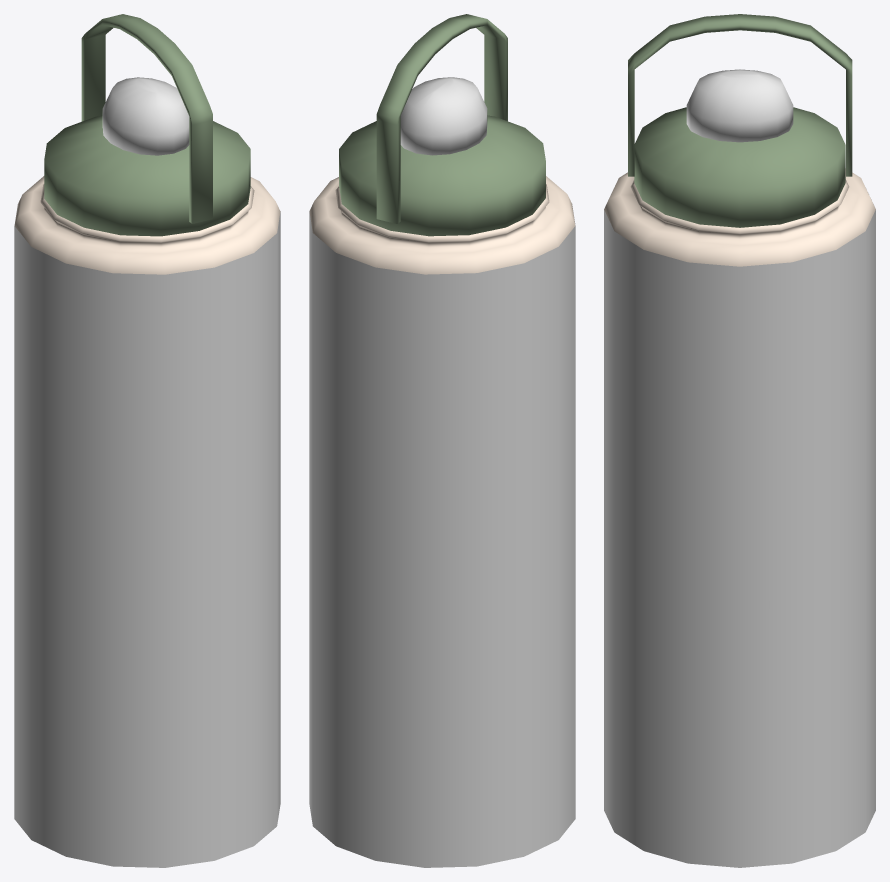
The model's file is Waterbottle.fbx.
3 views of the same model, side by side, from view 1: azimuth 30°, elevation 25°; view 2: azimuth 150°, elevation 25°; view 3: azimuth 270°, elevation 25° (orthographic).
Parts seen in each view (by area): view 1: Waterbottle; view 2: Waterbottle; view 3: Waterbottle.
Boxes of the visible parts, bbox=[...] form: Waterbottle: bbox=[14, 14, 280, 867]; Waterbottle: bbox=[309, 14, 575, 867]; Waterbottle: bbox=[604, 14, 875, 867].
Bounding box in the file's own units: 10.01 × 32.14 × 10.01.
